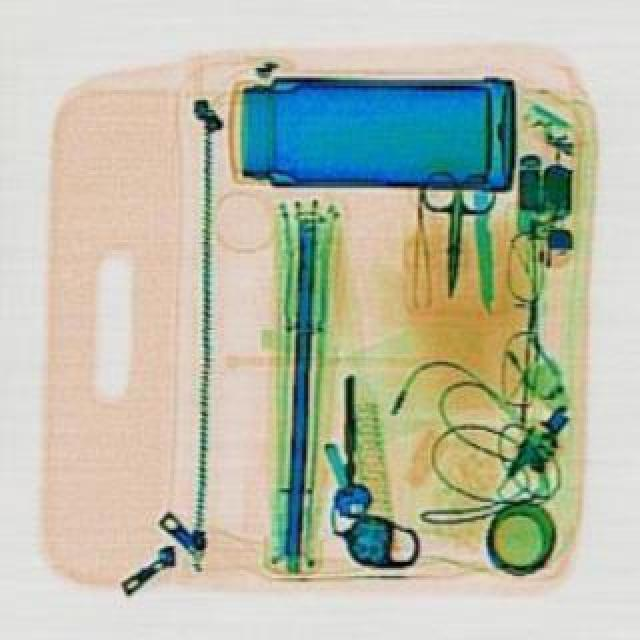pliers: (408, 168, 496, 296)
